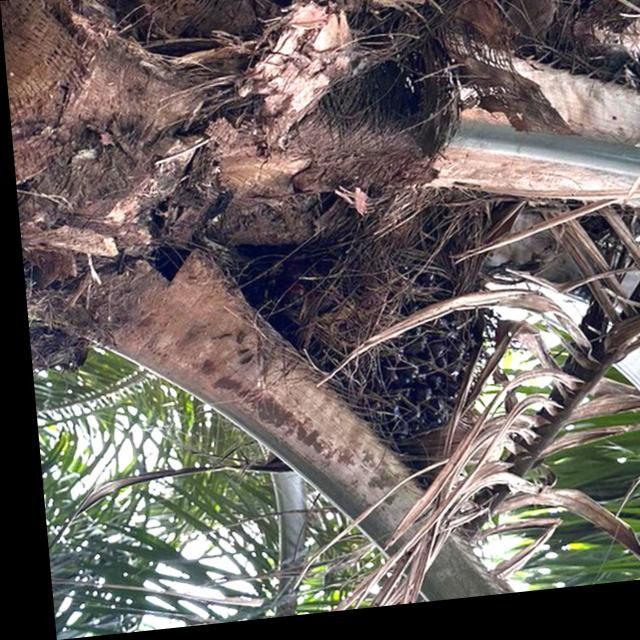almost: (225, 219, 495, 470)
